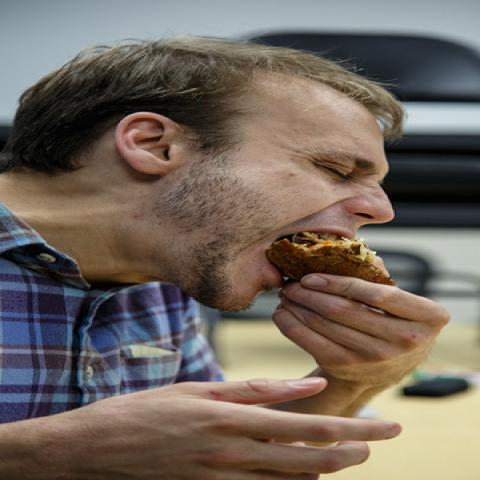truck: (273, 31, 479, 214)
